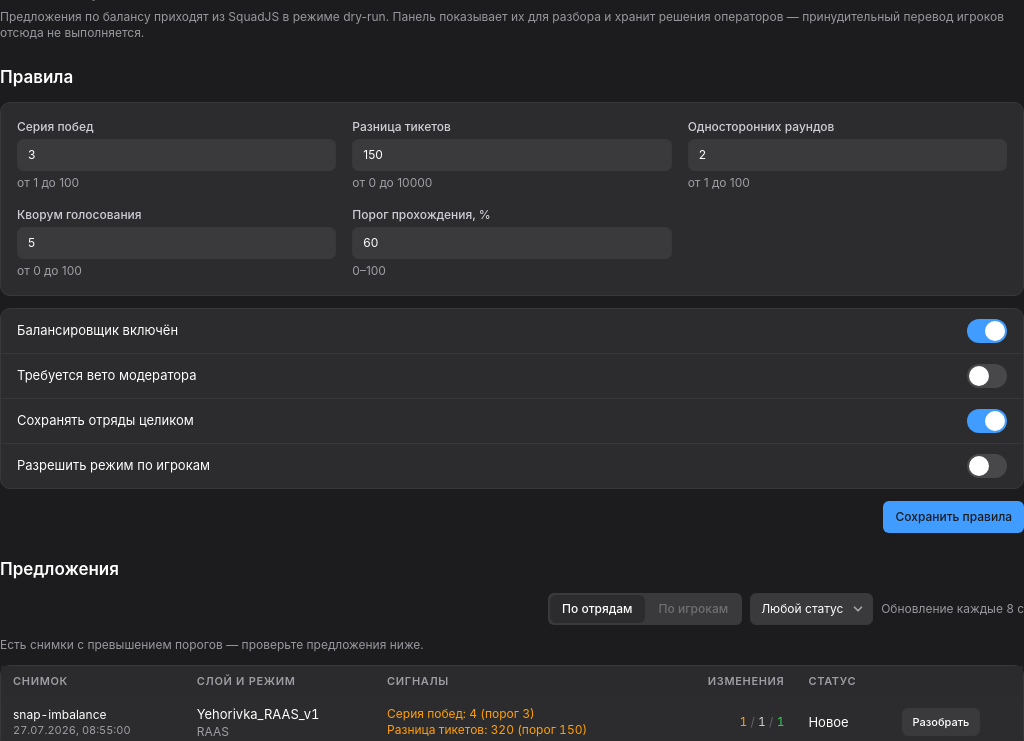
Test: BalancerBrowser imbalance state › derives every diff row state from the payload enum alone
Expected: the text "snap-imbalance" is shown, [13,707,106,722]
Step 1. Click the button "Разобрать" → click(941, 722), box [902,708,980,736]
(page scrolled)
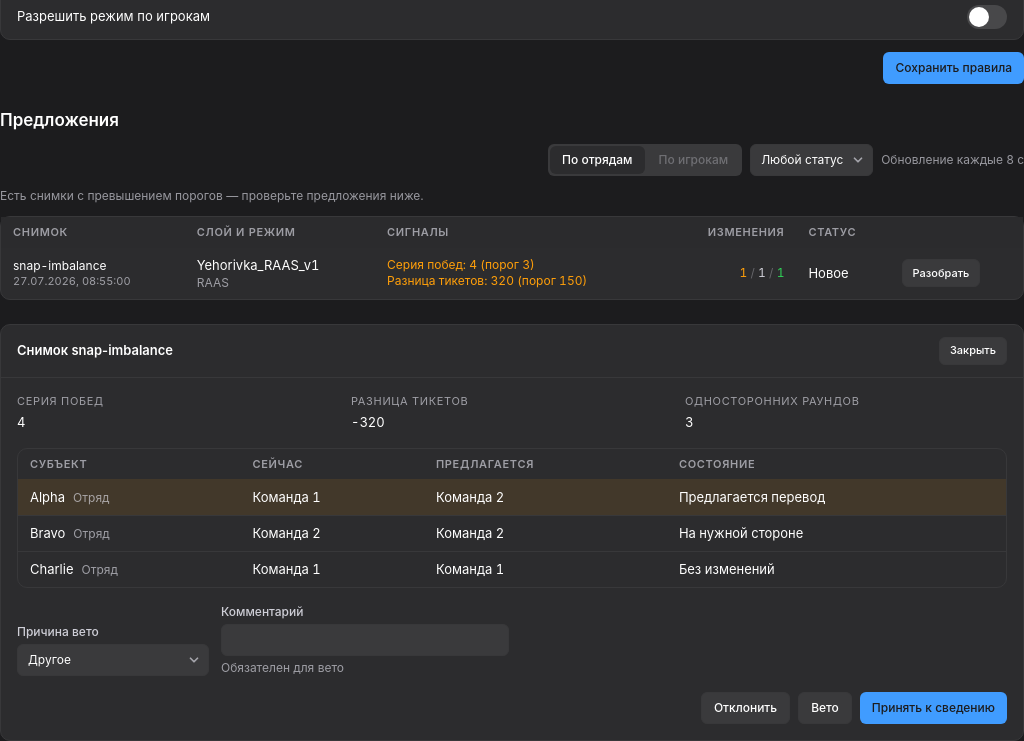
Result: the text "Alpha" is shown at [30,489,65,505]
Result: the text "Предлагается перевод" is shown at [667,479,1006,515]
Result: the text "На нужной стороне" is shown at [667,515,1006,551]
